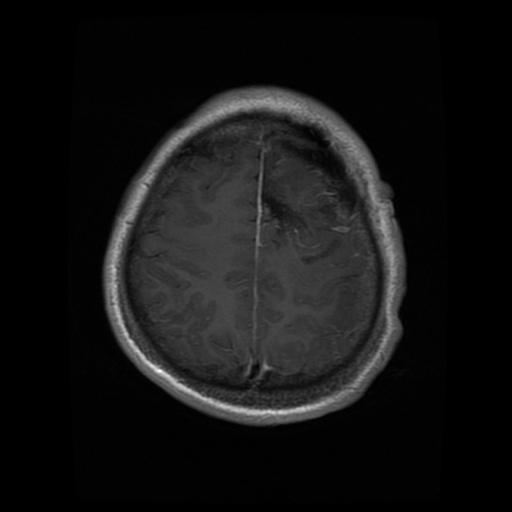glioma: (260, 138, 355, 242)
